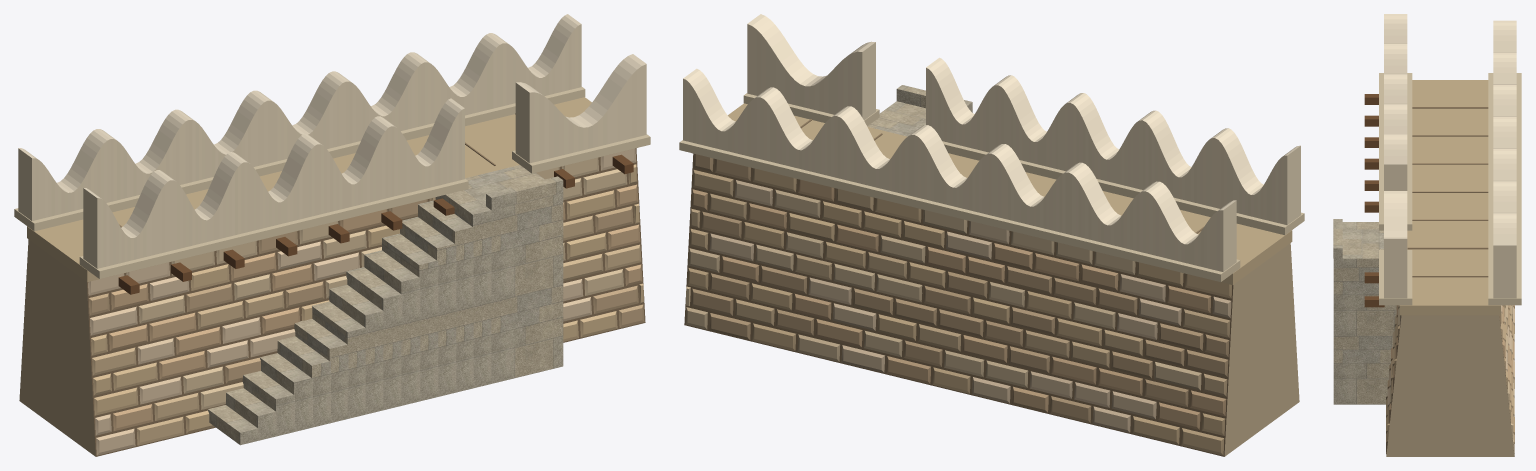
Rendered from reinforced_wall@2.glb.
The picture shows the model from 3 angles, left to right: view 1: azimuth 30°, elevation 25°; view 2: azimuth 150°, elevation 25°; view 3: azimuth 270°, elevation 25°; orthographic projection. The views are drawn at different scales.
Parts seen in each view (by area): view 1: part_1, part_4, part_0, part_2, part_6, part_5, part_7, part_8; view 2: part_1, part_4, part_5, part_2, part_6, part_0, part_8; view 3: part_2, part_1, part_4, part_0, part_5, part_6, part_7, part_3, part_8.
Part boxes in pixels (<box>): part_1: <box>19,148,645,456</box>; part_4: <box>18,14,646,268</box>; part_0: <box>208,165,563,445</box>; part_2: <box>27,97,636,281</box>; part_6: <box>79,179,468,278</box>; part_5: <box>14,87,585,231</box>; part_7: <box>118,154,633,294</box>; part_8: <box>512,134,650,173</box>; part_1: <box>684,153,1299,456</box>; part_4: <box>683,14,1300,271</box>; part_5: <box>679,140,1240,281</box>; part_2: <box>716,103,1292,285</box>; part_6: <box>942,141,1304,235</box>; part_0: <box>867,85,972,136</box>; part_8: <box>743,93,879,126</box>; part_2: <box>1399,80,1500,315</box>; part_1: <box>1386,305,1514,456</box>; part_4: <box>1384,14,1516,298</box>; part_0: <box>1333,219,1396,404</box>; part_5: <box>1488,73,1521,305</box>; part_6: <box>1379,73,1412,230</box>; part_7: <box>1364,94,1384,307</box>; part_3: <box>1407,107,1488,277</box>; part_8: <box>1379,250,1412,305</box>.
Size of the model in its own units: 7.37 by 3.32 by 2.6.
Materials: 6 (1 with a texture image).
